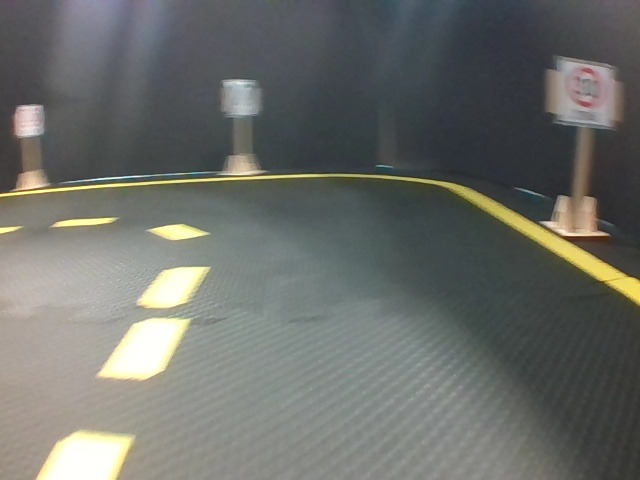30: (559, 58, 616, 125), (17, 105, 43, 136)
no30: (224, 79, 257, 114)
